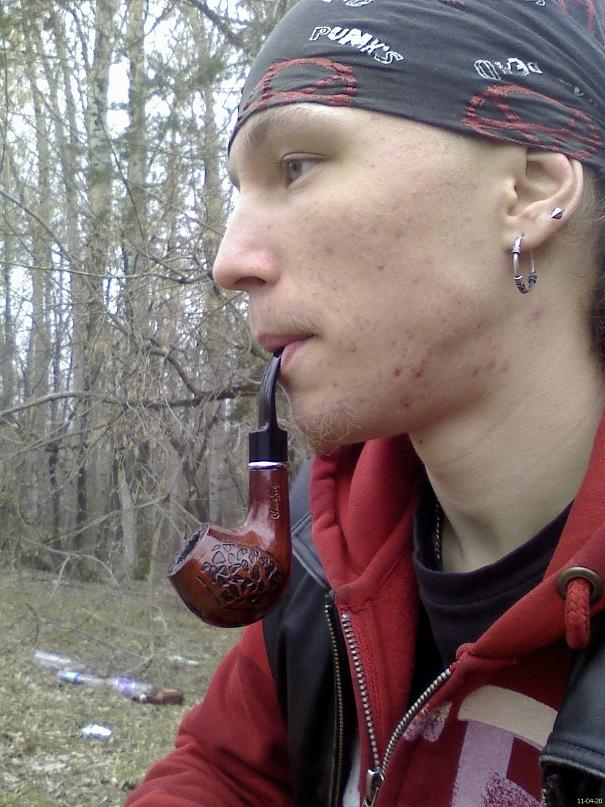trubka: (170, 357, 290, 627)
